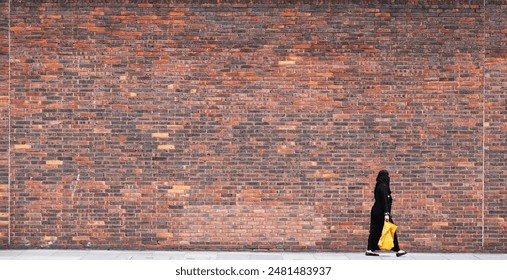Wall: (8, 10, 359, 247), (367, 13, 492, 161)
